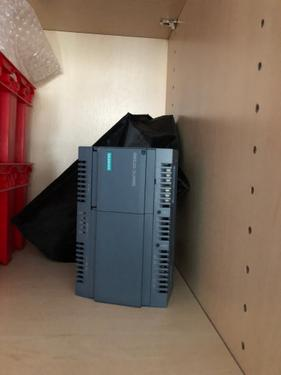device: (75, 147, 179, 309)
